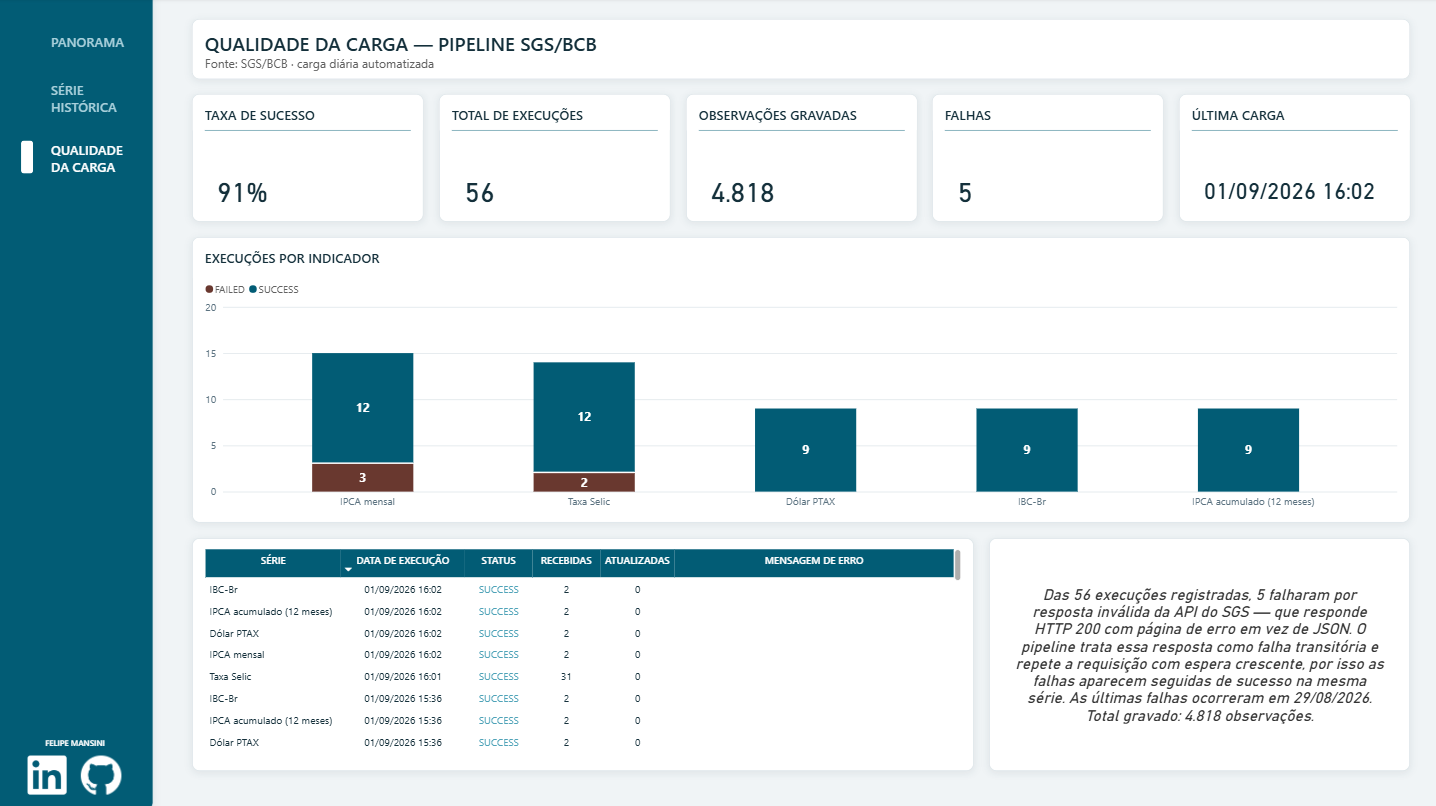

Layout of this report page (visuals, bound fields, positions):
{"tool":"powerbi","page":{"name":"Qualidade da carga","canvas":[1920,1080],"ordinal":2},"visuals":[{"type":"cardVisual","title":"TAXA DE SUCESSO","fields":{"Data":["_Medidas.Taxa de Sucesso"]},"box":[260,128,308,170],"z":0},{"type":"cardVisual","title":"TOTAL DE EXECUÇÕES","fields":{"Data":["_Medidas.Total de Execuções"]},"box":[588,128,308,170],"z":1000},{"type":"cardVisual","title":"OBSERVAÇÕES GRAVADAS","fields":{"Data":["_Medidas.Observações Gravadas"]},"box":[916,128,308,170],"z":2000},{"type":"cardVisual","title":"FALHAS","fields":{"Data":["_Medidas.Execuções com Falha"]},"box":[1244,128,308,170],"z":3000},{"type":"columnChart","title":"EXECUÇÕES POR INDICADOR","fields":{"Category":["analytics dim_series.short_name"],"Series":["analytics v_pipeline_health.status"],"Y":["_Medidas.Total de Execuções"]},"box":[260,318,1620,380],"z":4000},{"type":"tableEx","fields":{"Values":["analytics dim_series.short_name","analytics v_pipeline_health.started_at","analytics v_pipeline_health.status","Sum(analytics v_pipeline_health.records_received)","Sum(analytics v_pipeline_health.records_inserted)","analytics v_pipeline_health.error_message"]},"box":[260,718,1040,310],"z":5000},{"type":"cardVisual","title":"ÚLTIMA CARGA","fields":{"Data":["_Medidas.Última Carga"]},"box":[1572,128,308,170],"z":6000},{"type":"cardVisual","fields":{"Data":["_Medidas.Leitura da Qualidade"]},"box":[1320,718,560,310],"z":7000},{"type":"shape","title":"QUALIDADE DA CARGA — PIPELINE SGS/BCB","box":[260,28,1620,80],"z":8000},{"type":"shape","box":[0,-8,208,1088],"z":9000},{"type":"actionButton","title":"PANORAMA","box":[56,32,152,56],"z":10000},{"type":"actionButton","title":"SÉRIE HISTÓRICA","box":[56,96,152,64],"z":11000},{"type":"actionButton","title":"QUALIDADE DA CARGA","box":[56,176,152,64],"z":12000},{"type":"shape","box":[16,176,48,72],"z":13000},{"type":"image","box":[82.7,994,112,80],"z":14000},{"type":"image","box":[10.7,994,112,80],"z":15000},{"type":"textbox","title":"FELIPE MANSINI","box":[40,968,128,40],"z":16000}]}

Visuals, with their boxes on the page's 1920x1080 design canvas (x1, y1, x2, y2). These are canvas units, not pixel positions in the 1436x806 screenshot, which may show the page scaled, cropped or inside an application window:
"TAXA DE SUCESSO" cardVisual: (260, 128, 568, 298)
"TOTAL DE EXECUÇÕES" cardVisual: (588, 128, 896, 298)
"OBSERVAÇÕES GRAVADAS" cardVisual: (916, 128, 1224, 298)
"FALHAS" cardVisual: (1244, 128, 1552, 298)
"EXECUÇÕES POR INDICADOR" columnChart: (260, 318, 1880, 698)
tableEx - analytics dim_series.short_name x analytics v_pipeline_health.started_at: (260, 718, 1300, 1028)
"ÚLTIMA CARGA" cardVisual: (1572, 128, 1880, 298)
cardVisual - _Medidas.Leitura da Qualidade: (1320, 718, 1880, 1028)
"QUALIDADE DA CARGA — PIPELINE SGS/BCB" shape: (260, 28, 1880, 108)
shape: (0, -8, 208, 1080)
"PANORAMA" actionButton: (56, 32, 208, 88)
"SÉRIE HISTÓRICA" actionButton: (56, 96, 208, 160)
"QUALIDADE DA CARGA" actionButton: (56, 176, 208, 240)
shape: (16, 176, 64, 248)
image: (83, 994, 195, 1074)
image: (11, 994, 123, 1074)
"FELIPE MANSINI" textbox: (40, 968, 168, 1008)
